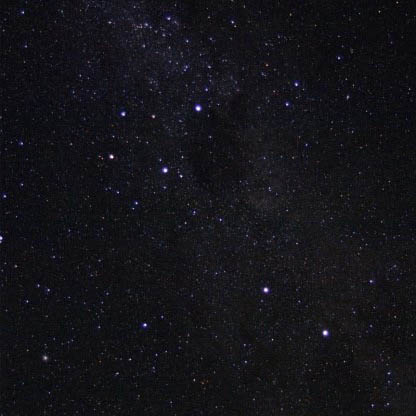Southern Cross: (157, 160, 173, 184), (103, 144, 117, 168), (191, 99, 203, 119), (116, 107, 129, 122)
